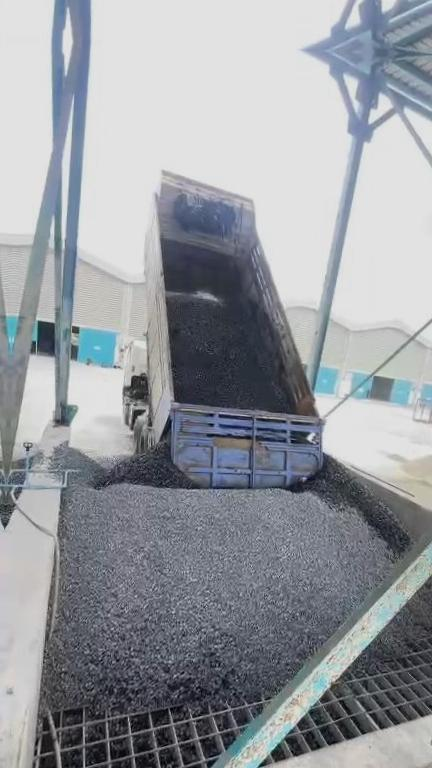gravel: (38, 439, 410, 719), (169, 296, 291, 412), (364, 575, 432, 671)
sand: (378, 450, 432, 511)
